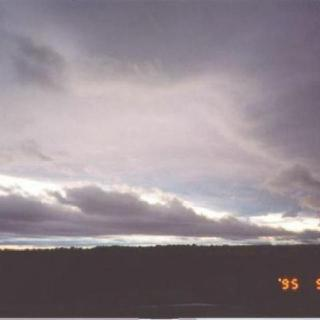Stratus: (0, 0, 320, 242)
